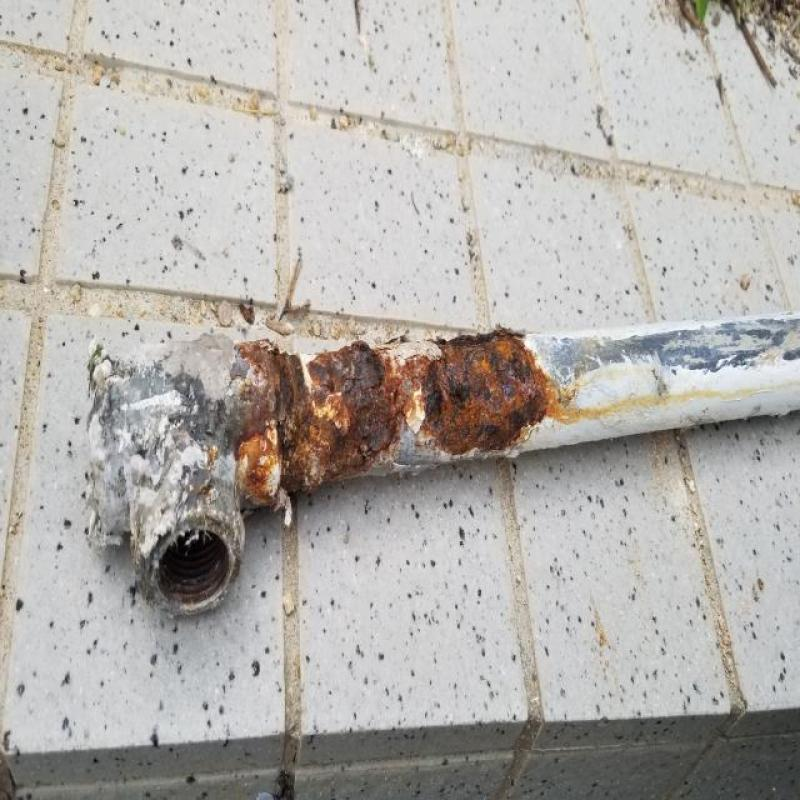corrosion: (208, 370, 532, 462)
